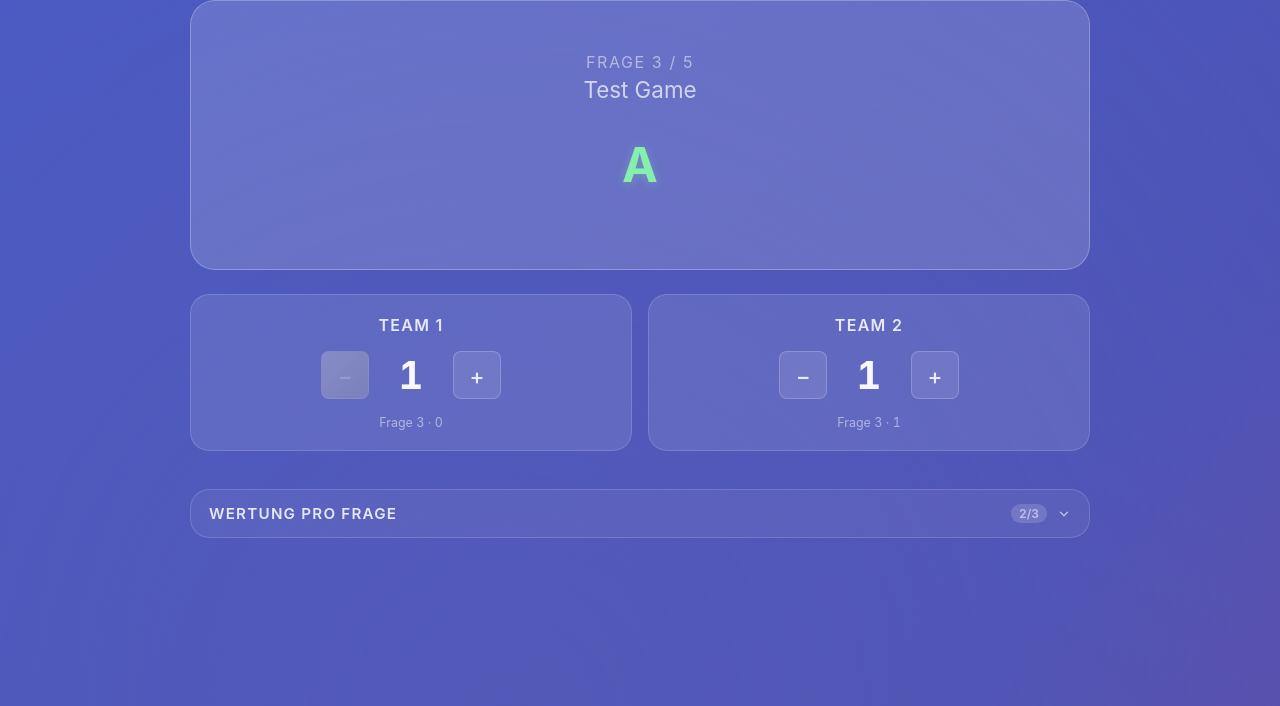
Test: QuestionScorePanel — tally feed (normal games) › marks a skipped question as "keine Wertung"
Expected: the element with class "gm-qscore" is shown, [190,489,1090,538]
Click the text "Wertung pro Frage" at (303, 514), box [209,504,397,523]
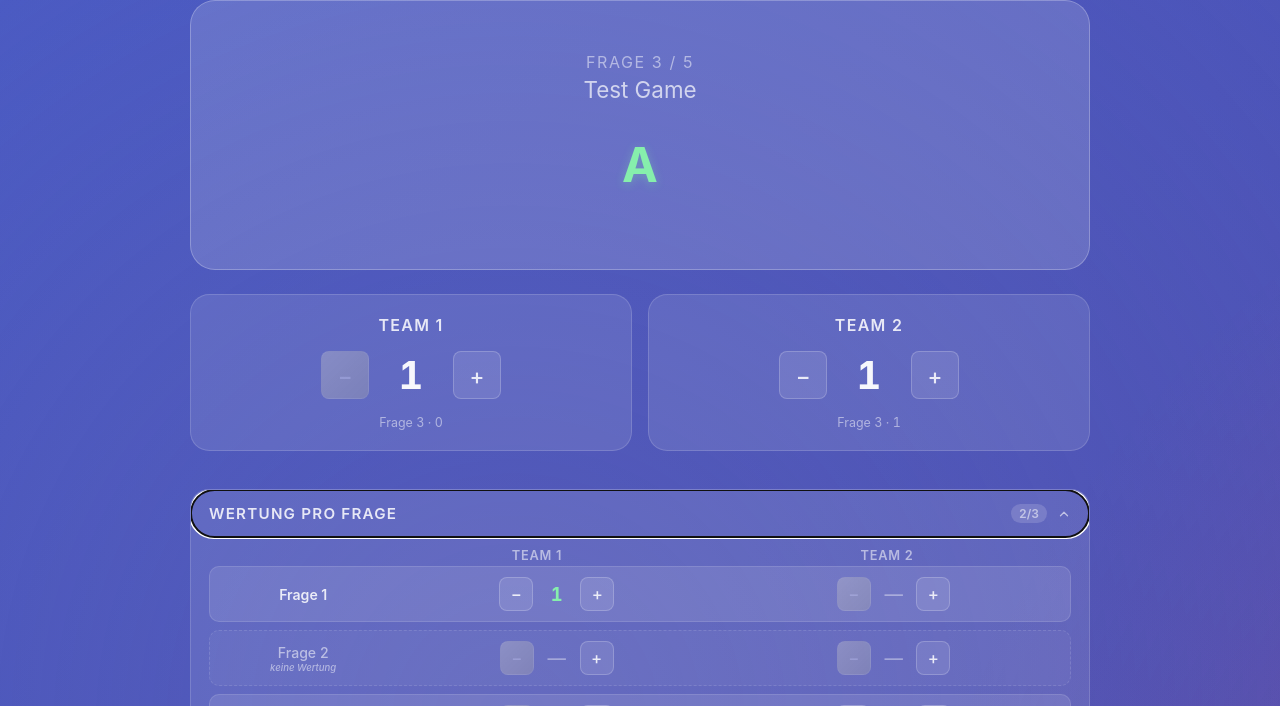
Expected: the text "keine Wertung" is shown once, [270,662,336,673]
Expected: the number of list items with class "gm-qscore-row--empty" is 1, [209,630,1071,686]
Expected: the list item with class "gm-qscore-row--empty" shows "Frage 2", [278,644,328,661]
